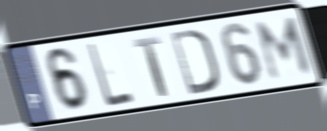6: (43, 45, 92, 115), (218, 20, 263, 89)
D: (168, 27, 221, 98)
L: (85, 40, 137, 110)
M: (254, 15, 316, 84)
T: (130, 34, 170, 99)
